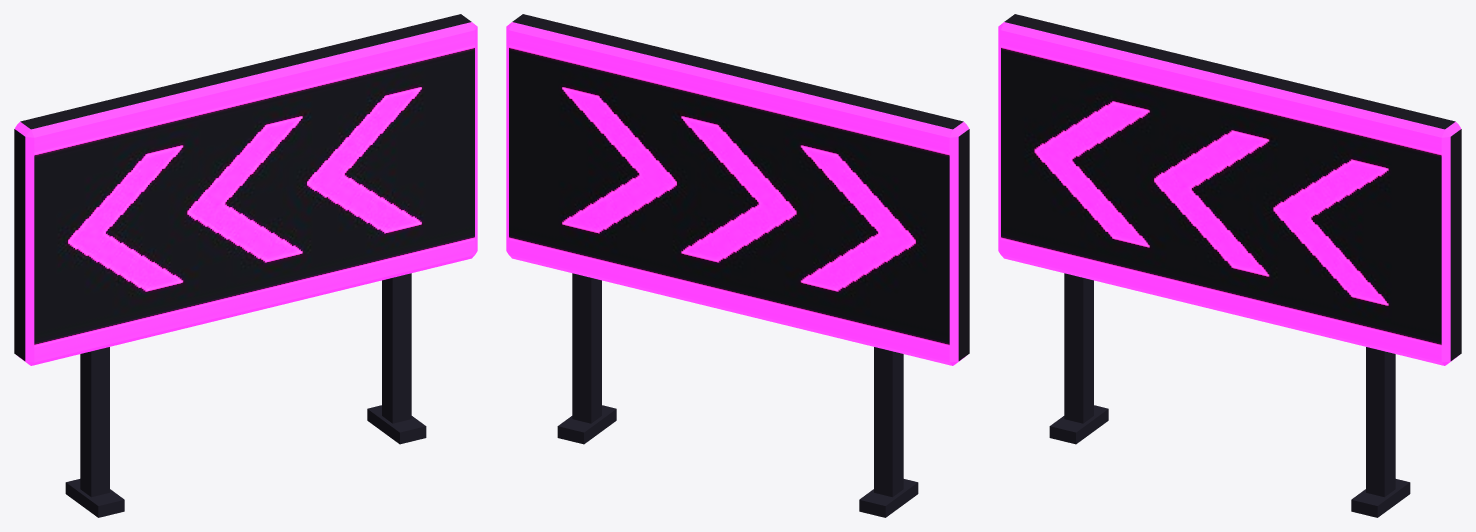
Rendered from chevron.glb.
The picture shows the model from 3 angles, left to right: view 1: azimuth 30°, elevation 25°; view 2: azimuth 150°, elevation 25°; view 3: azimuth 330°, elevation 25°; orthographic projection.
Visible parts, largest first — view 1: chevron; view 2: chevron; view 3: chevron.
Part boxes in pixels (left/top/right/bottom): chevron: left=14, top=14, right=477, bottom=517; chevron: left=506, top=14, right=969, bottom=517; chevron: left=998, top=14, right=1461, bottom=517.
Size of the model in its own units: 2.4 by 2 by 0.3.
1 material, 1 textured.
